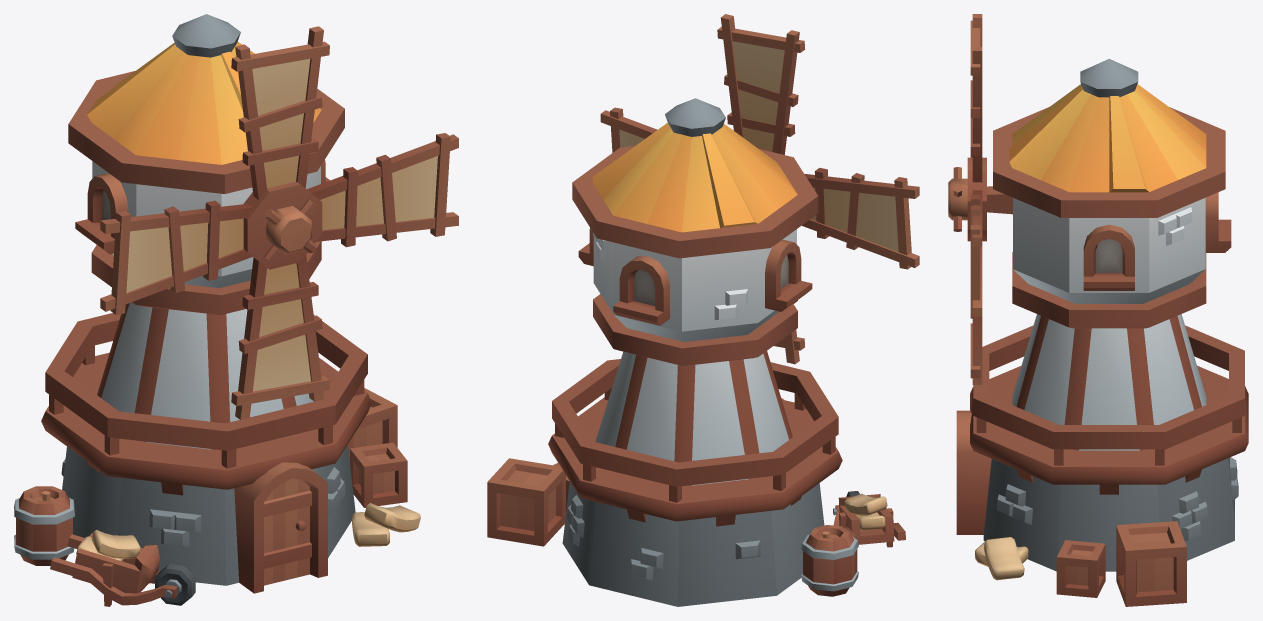
Rendered from building_windmill_yellow.gltf.
3 views of the same model, side by side, from view 1: azimuth 30°, elevation 25°; view 2: azimuth 150°, elevation 25°; view 3: azimuth 270°, elevation 25° (orthographic). The views are drawn at different scales.
Parts seen in each view (by area): view 1: building_windmill_yellow, building_windmill_top_fan_yellow, building_windmill_top_yellow; view 2: building_windmill_yellow, building_windmill_top_yellow, building_windmill_top_fan_yellow; view 3: building_windmill_yellow, building_windmill_top_yellow, building_windmill_top_fan_yellow.
Part boxes in pixels (left/top/right/bottom): building_windmill_yellow: left=14, top=302, right=420, bottom=606; building_windmill_top_fan_yellow: left=100, top=26, right=458, bottom=419; building_windmill_top_yellow: left=68, top=14, right=344, bottom=314; building_windmill_yellow: left=487, top=351, right=905, bottom=606; building_windmill_top_yellow: left=572, top=98, right=818, bottom=365; building_windmill_top_fan_yellow: left=600, top=14, right=919, bottom=364; building_windmill_yellow: left=956, top=314, right=1248, bottom=606; building_windmill_top_yellow: left=987, top=58, right=1231, bottom=328; building_windmill_top_fan_yellow: left=948, top=14, right=986, bottom=384.
Bounding box in the file's own units: 1.13 × 1.46 × 0.8166.
Materials: 1 (1 with a texture image).
